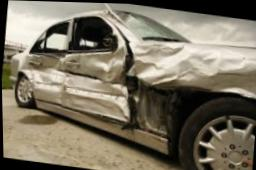Door: (63, 15, 132, 126), (24, 17, 71, 105)
Fender: (131, 42, 256, 152)
Windshield: (110, 9, 193, 40)
